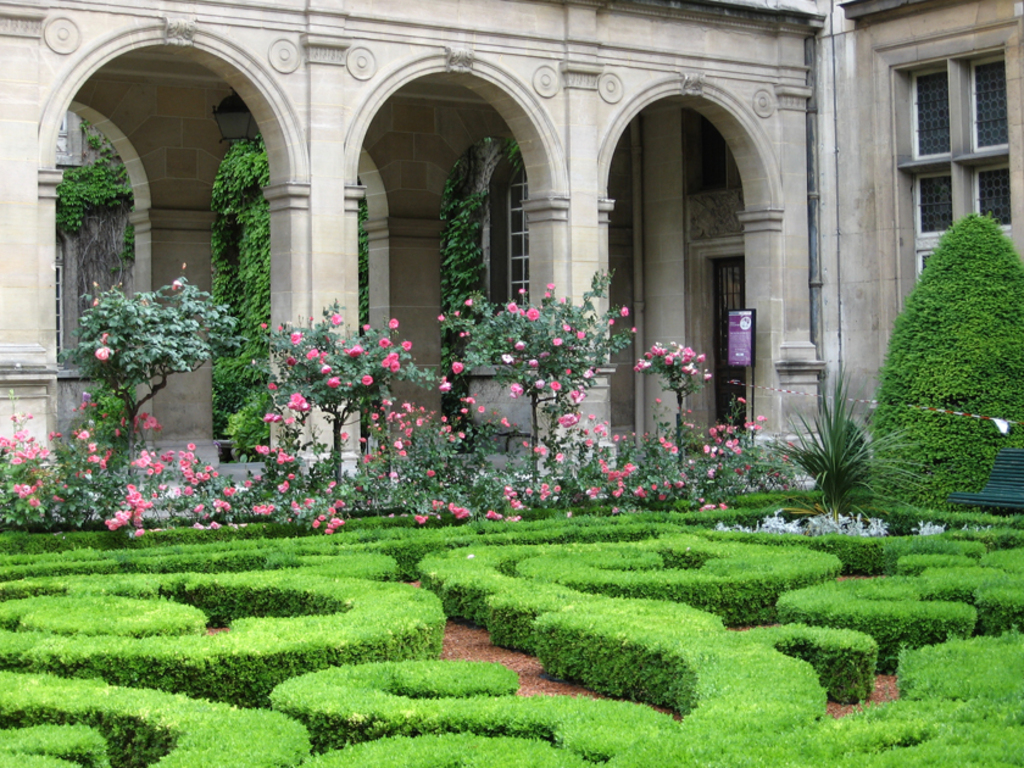Tree: (867, 210, 1022, 512)
